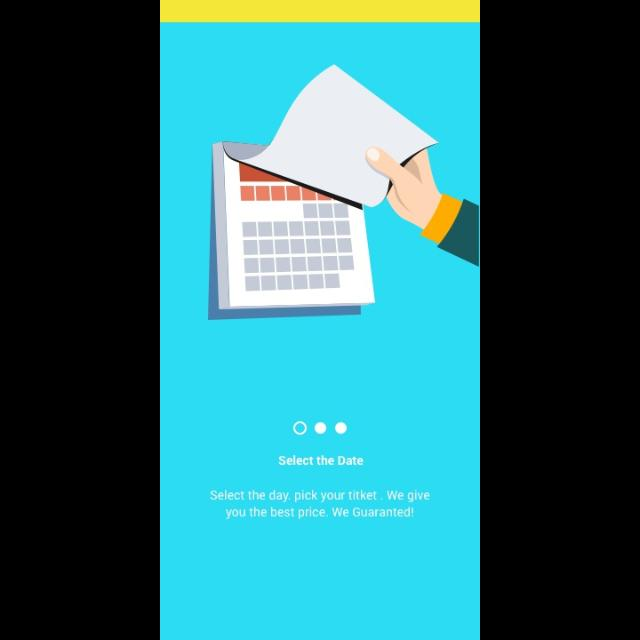image: (208, 64, 480, 320)
pageindicator: (293, 421, 349, 437)
text: (210, 488, 430, 520), (278, 454, 364, 466)
